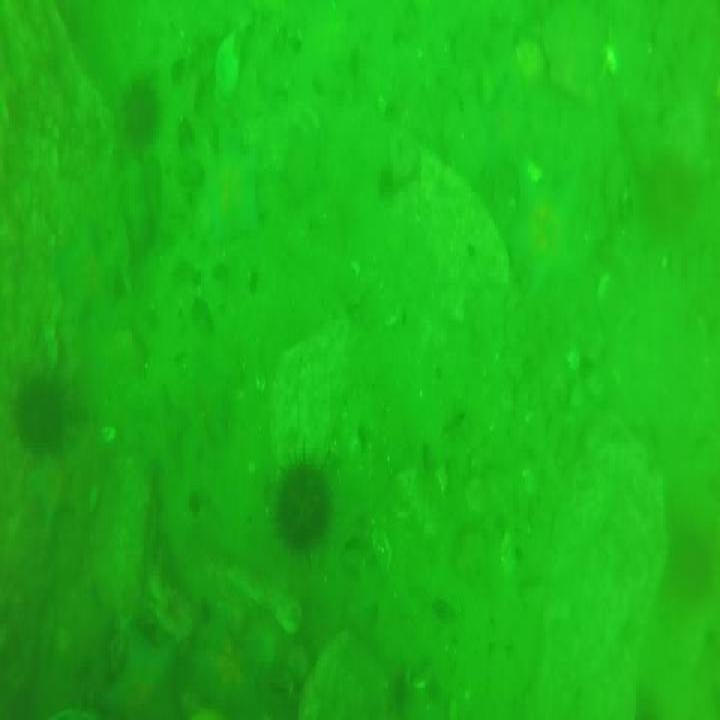echinus: (100, 622, 182, 720), (272, 461, 333, 567), (199, 154, 261, 242), (66, 581, 113, 688), (12, 370, 66, 462), (120, 80, 156, 153)
